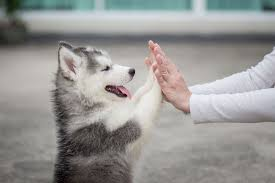dog: (43, 34, 172, 183)
